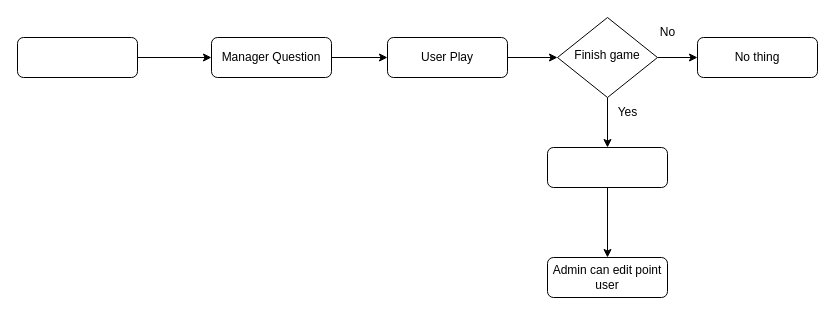
The diagram is 835 pixels wide and 315 high, and some of its shapes have lost their labels. The centre of each missing label's shape, as x and y in pixels:
Admin join: (x=77, y=57)
Go leaderboard watch rank: (x=607, y=167)
